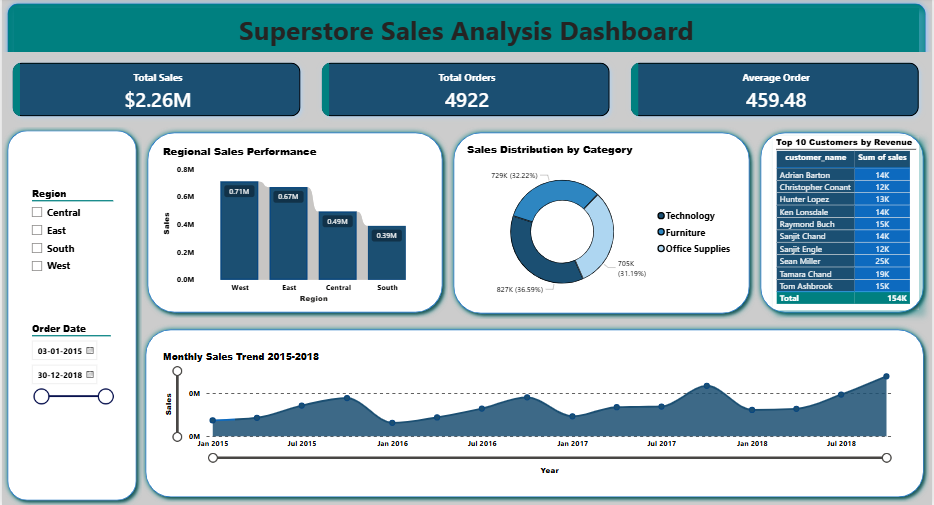

What the dashboard file says about the page in this screenshot:
{"tool":"powerbi","page":{"name":"Page 1","canvas":[1500,820],"ordinal":0},"visuals":[{"type":"shape","box":[1215.5,208.2,280.9,308.3],"z":0},{"type":"shape","box":[0,205,226,615],"z":1000},{"type":"shape","box":[719.9,208.2,495.6,309.9],"z":2000},{"type":"shape","box":[222.3,526.7,1273.7,288.4],"z":3000},{"type":"shape","box":[226,208.2,493.9,308.3],"z":4000},{"type":"shape","box":[0,0,1500,104.3],"z":5000},{"type":"columnChart","title":"Regional Sales Performance","fields":{"Y":["Sum(public superstore.sales)"],"Category":["public superstore.region"]},"box":[255,235.7,435.8,263.1],"z":6000},{"type":"donutChart","title":"Sales Distribution by Category","fields":{"Category":["public superstore.category"],"Y":["Sum(public superstore.sales)"]},"box":[750.6,232.4,434.2,261.5],"z":7000},{"type":"lineChart","title":"Monthly Sales Trend 2015-2018","fields":{"Category":["public superstore.order_date.Variation.Date Hierarchy.Year","public superstore.order_date.Variation.Date Hierarchy.Quarter","public superstore.order_date.Variation.Date Hierarchy.Month","public superstore.order_date.Variation.Date Hierarchy.Day"],"Y":["Sum(public superstore.sales)"]},"box":[254.3,568.8,1201.6,202.3],"z":8000},{"type":"tableEx","title":"Top 10 Customers by Revenue","fields":{"Values":["public superstore.customer_name","Sum(public superstore.sales)"]},"box":[1244.5,222.8,235.7,280.9],"z":9000},{"type":"slicer","fields":{"Values":["public superstore.region"]},"box":[35.5,300.2,156.6,213.1],"z":10000},{"type":"slicer","fields":{"Values":["public superstore.order_date"]},"box":[35.5,518.1,153.3,242.1],"z":11000},{"type":"textbox","box":[19.7,15.7,1460.6,72.8],"z":12000},{"type":"cardVisual","fields":{"Data":["public superstore.Total Sales","public superstore.Total Orders","public superstore.Avg Order Value"]},"box":[0,87.2,1499.6,121.1],"z":13000}]}

Visuals, with their boxes in screenshot pixels (x1, y1, x2, y2), scaled from the page's 1500x820 canvas onto the 934x505 screenshot:
shape: 757,128,932,318
shape: 0,126,141,504
shape: 448,128,757,319
shape: 138,324,932,502
shape: 141,128,448,318
shape: 0,0,933,64
"Regional Sales Performance" columnChart: 159,145,430,307
"Sales Distribution by Category" donutChart: 467,143,738,304
"Monthly Sales Trend 2015-2018" lineChart: 158,350,907,475
"Top 10 Customers by Revenue" tableEx: 775,137,922,310
slicer - public superstore.region: 22,185,120,316
slicer - public superstore.order_date: 22,319,118,468
textbox: 12,10,922,55
cardVisual - public superstore.Total Sales x public superstore.Total Orders: 0,54,933,128
